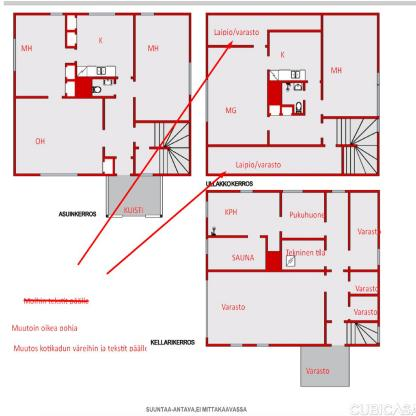window: (375, 72, 382, 133), (205, 80, 210, 123), (87, 10, 116, 17), (40, 173, 79, 178), (136, 171, 155, 179), (140, 9, 154, 17), (254, 342, 270, 349), (48, 12, 63, 19), (283, 189, 302, 194), (13, 38, 16, 68), (375, 250, 381, 265), (241, 187, 252, 194), (205, 201, 209, 219), (188, 63, 190, 98), (376, 326, 380, 343), (229, 344, 242, 348)
zone: (207, 118, 377, 174), (208, 273, 324, 343), (326, 191, 376, 345), (14, 98, 102, 173), (207, 48, 267, 146), (66, 15, 134, 100), (134, 16, 189, 121), (270, 32, 321, 144), (322, 13, 376, 116), (208, 191, 280, 252), (17, 13, 66, 97), (206, 14, 320, 49), (135, 124, 188, 173), (107, 176, 162, 216), (300, 348, 351, 388), (110, 175, 160, 215), (350, 194, 376, 269), (104, 97, 135, 157), (208, 238, 268, 268), (91, 79, 134, 100), (349, 296, 379, 323), (349, 270, 376, 291), (116, 157, 133, 173)
